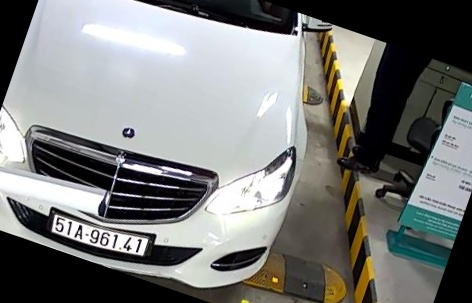plate: (46, 206, 152, 260)
